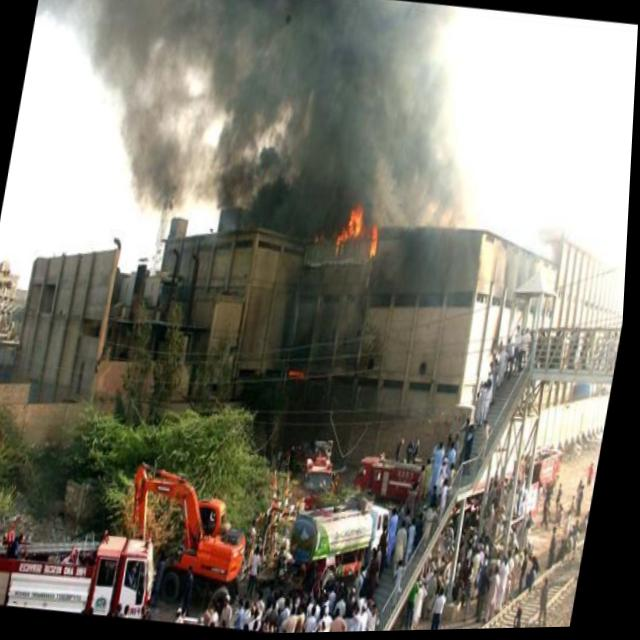fire: (335, 200, 392, 262)
